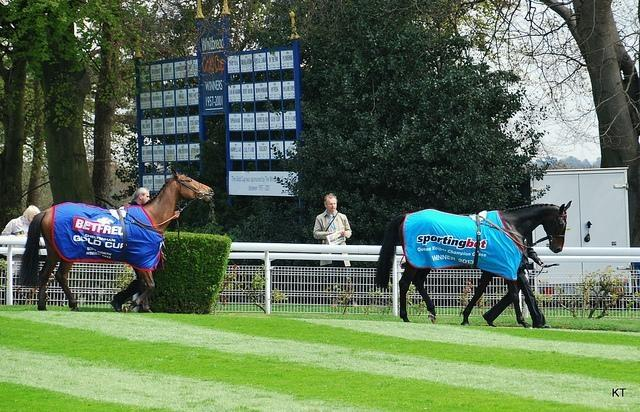truck: (530, 170, 634, 298)
